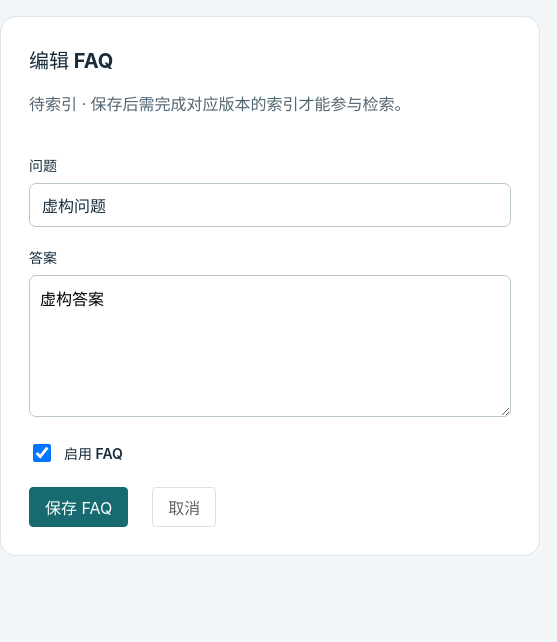
Test: keeps the draft on a conflict and allows cancelling to reload
This screenshot has width=557, height=642.
Replace the text in the text box named "answer" with "保留草稿" at (270, 346), box [29,275,511,417]
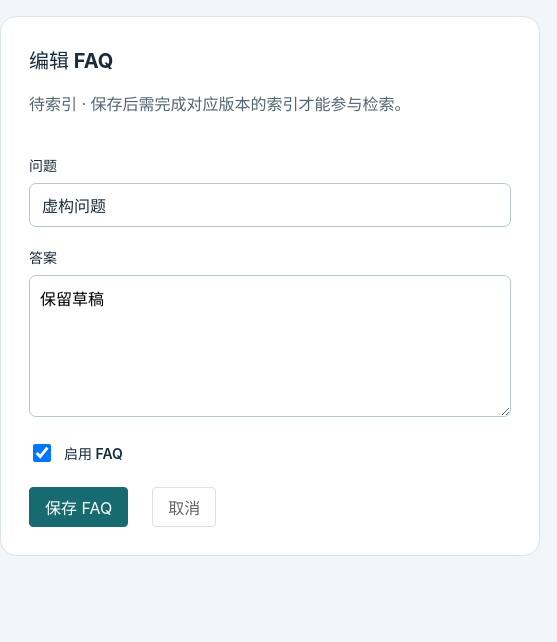
Submit the form, box [29,135,511,527]
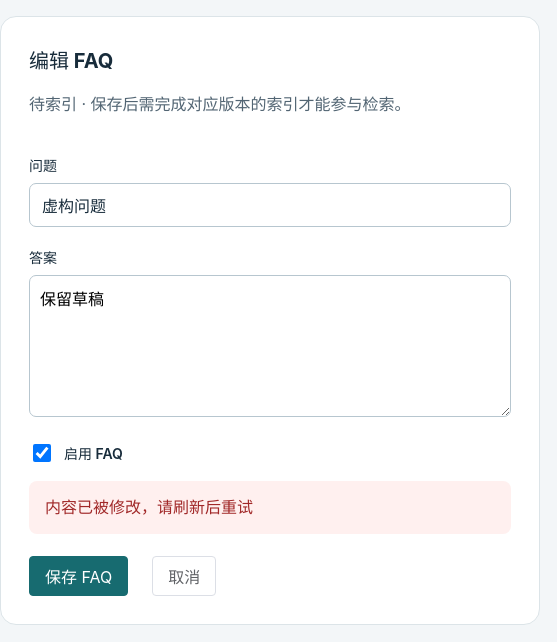
Expected: the submit button is enabled, [29,556,128,596]
Result: the message "内容已被修改，请刷新后重试" is shown at [29,481,511,534]
